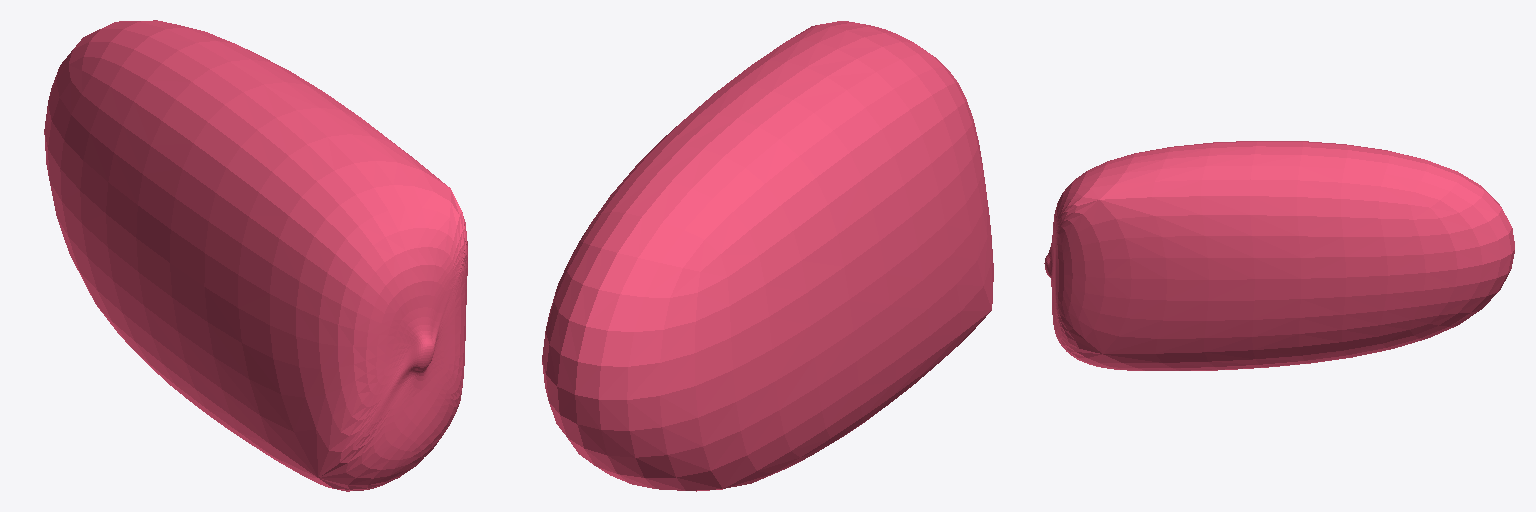
robot.urdf — blob512:

<robot name="blob512">
  <link name="random_obj_512">
    <contact>
      <lateral_friction value="1.0"/>
      <rolling_friction value="0.0"/>
      <inertia_scaling value="3.0"/>
      <contact_cfm value="0.0"/>
      <contact_erp value="1.0"/>
    </contact>
    <inertial>
      <origin rpy="0 0 0" xyz="0 0 0"/>
      <mass value="0.1350"/>
      <inertia ixx="1" ixy="0" ixz="0" iyy="1" iyz="0" izz="0"/>
    </inertial>
    <visual>
      <origin rpy="0 0 0" xyz="0 0 0"/>
      <geometry>
        <mesh filename="512.obj" scale="0.0065 0.0065 0.0065"/>
      </geometry>
      <material name="blockmat">
        <color rgba="0.97 0.40 0.54 1"/>
      </material>
    </visual>
    <collision>
      <origin rpy="0 0 0" xyz="0 0 0"/>
      <geometry>
        <mesh filename="512_coll.obj" scale="0.0065 0.0065 0.0065"/>
      </geometry>
    </collision>
  </link>
</robot>

--- What the picture shows (computed from the rendered views, not written in the file) ---
3 views of the same robot in one strip: view 1: azimuth 30°, elevation 25°; view 2: azimuth 150°, elevation 25°; view 3: azimuth 270°, elevation 25° (orthographic).
Model blob512 with 1 links and 0 joints (none), rooted at random_obj_512, posed all joints at 0.
Visible links, largest first — view 1: random_obj_512; view 2: random_obj_512; view 3: random_obj_512.
Link boxes in pixels (left/top/right/bottom): random_obj_512: left=44, top=20, right=467, bottom=491; random_obj_512: left=542, top=21, right=993, bottom=491; random_obj_512: left=1044, top=141, right=1514, bottom=370.
Size in the robot's own frame: 0.0245 by 0.0723 by 0.0368 metres.
1 mesh visuals loaded from 1 distinct referenced files (1 OBJ).
